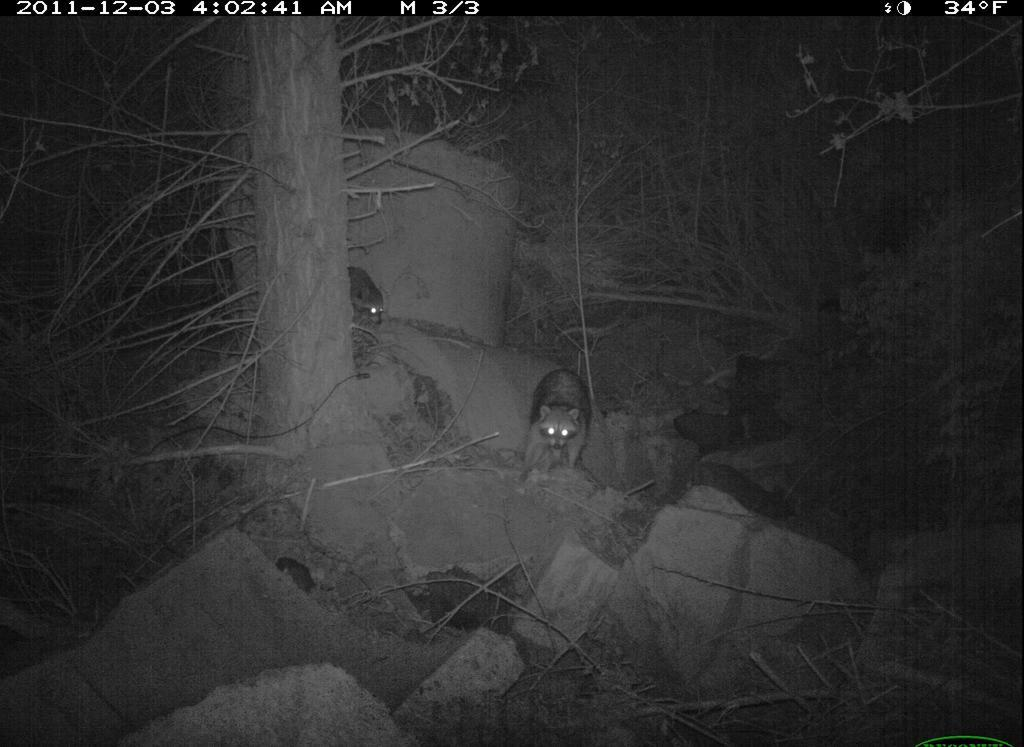raccoon: (500, 354, 624, 515), (342, 245, 392, 345)
